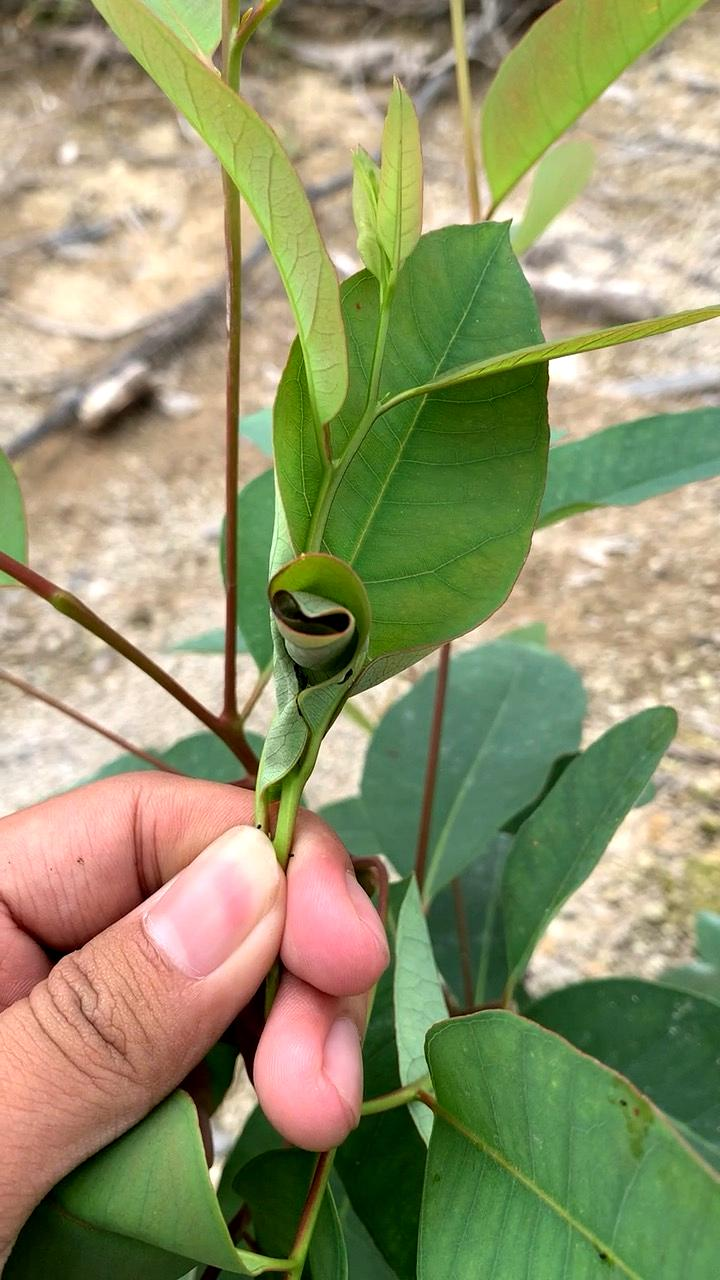Leaf Roller - Leaf: (193, 553, 420, 786)
